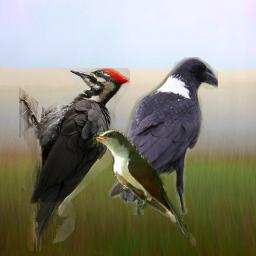Crow: (109, 57, 218, 215)
Cuckoo: (93, 127, 196, 246)
Woodpecker: (19, 68, 130, 251)
